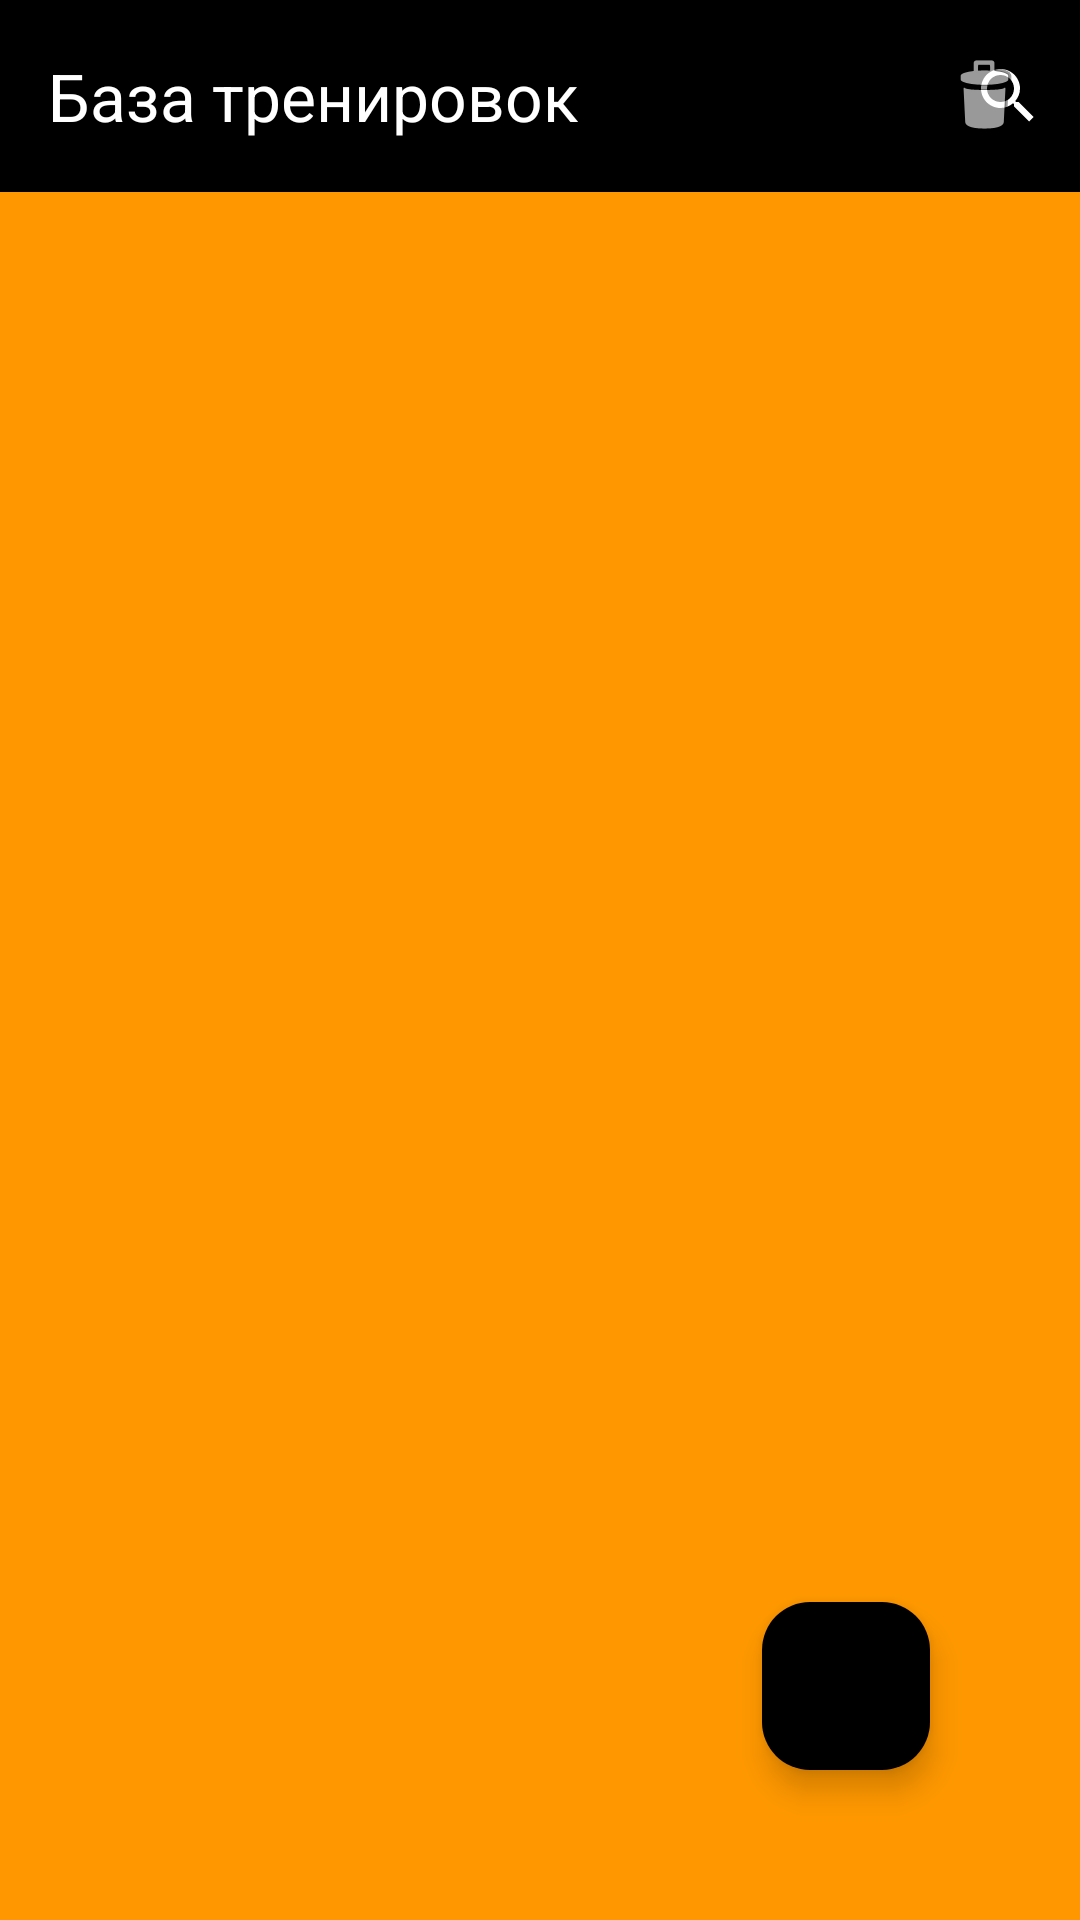

Icon bounding boxes for this 1080*1920 phone screenshot, format box(x1, y1, x2, y2):
delete: box(960, 60, 1032, 129)
